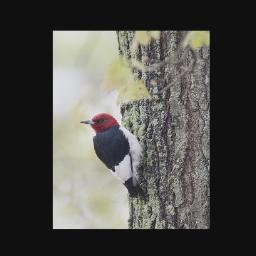Woodpecker: (80, 113, 145, 199)
